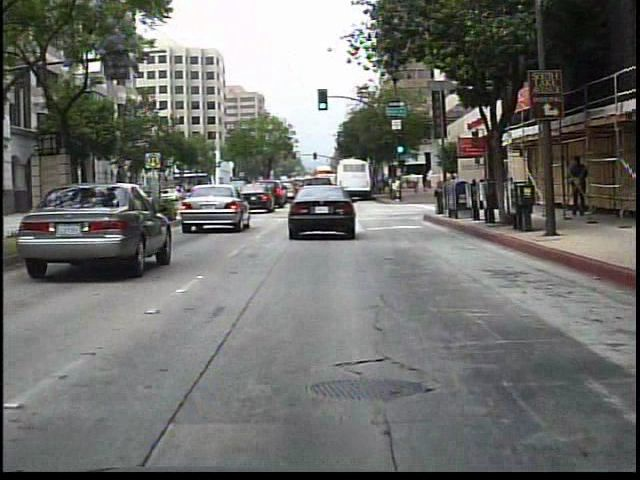person: (562, 153, 593, 221)
